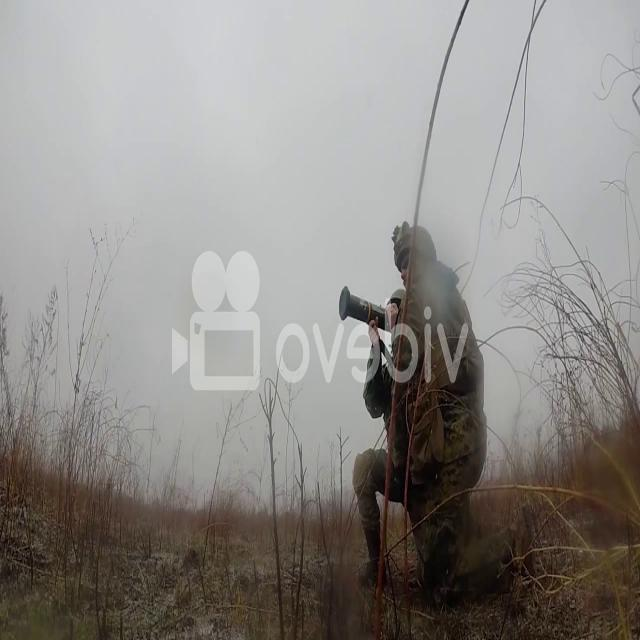rocket: (340, 288, 392, 338)
